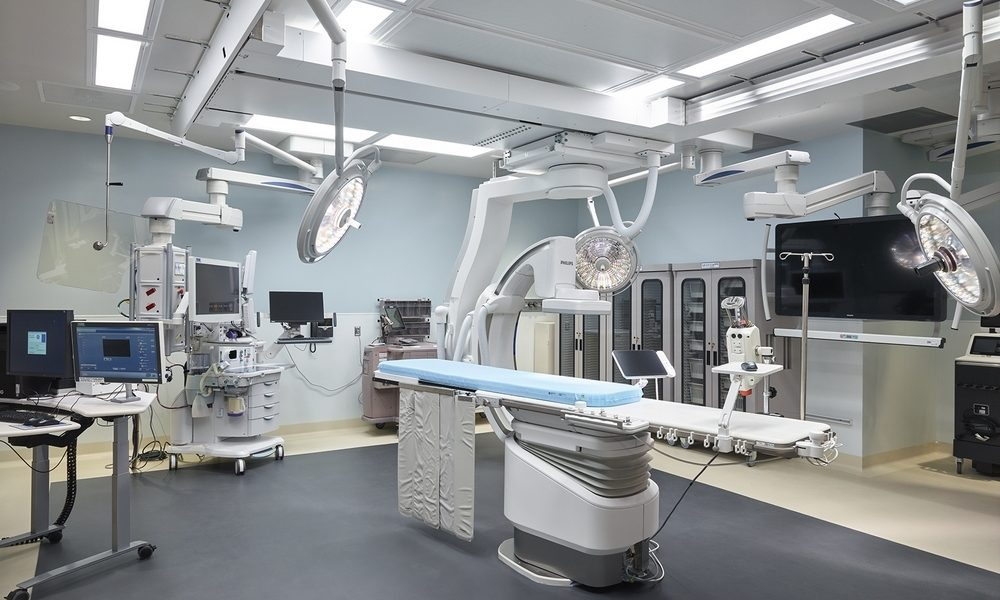bedside_monitor: (773, 212, 950, 350), (187, 260, 250, 319), (384, 306, 414, 335)
cabinet: (672, 263, 800, 421), (609, 273, 672, 403), (545, 305, 608, 382)
computer: (69, 313, 168, 386), (1, 307, 76, 380), (269, 288, 325, 325)
iv_pole: (777, 251, 836, 419)
keyboard: (279, 337, 330, 342)
medical_drawer: (223, 366, 287, 438)
mouse: (24, 408, 62, 429)
operating_bed: (372, 356, 836, 598)
surgical_light: (885, 160, 1000, 324), (289, 151, 408, 265), (542, 212, 651, 299)
table: (1, 384, 158, 600)
